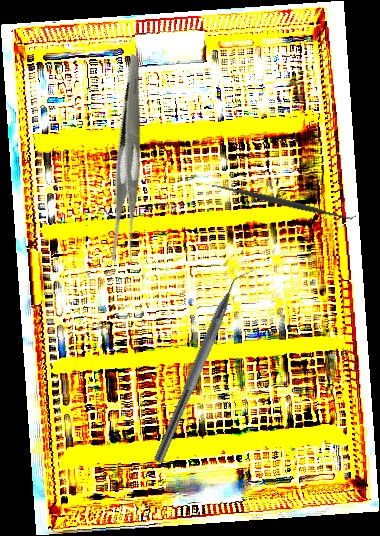Chopper: (152, 258, 258, 471)
Dressing Forceps: (57, 53, 205, 268)
Spatula Surgical: (210, 176, 357, 228)
